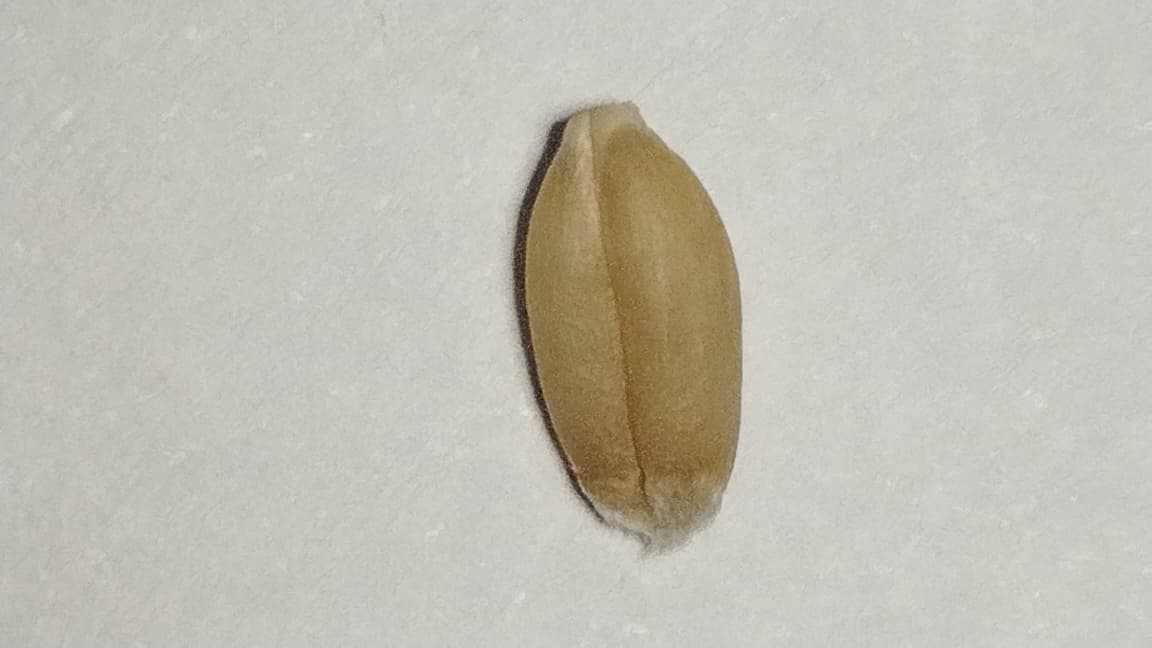healthy: (516, 104, 740, 534)
